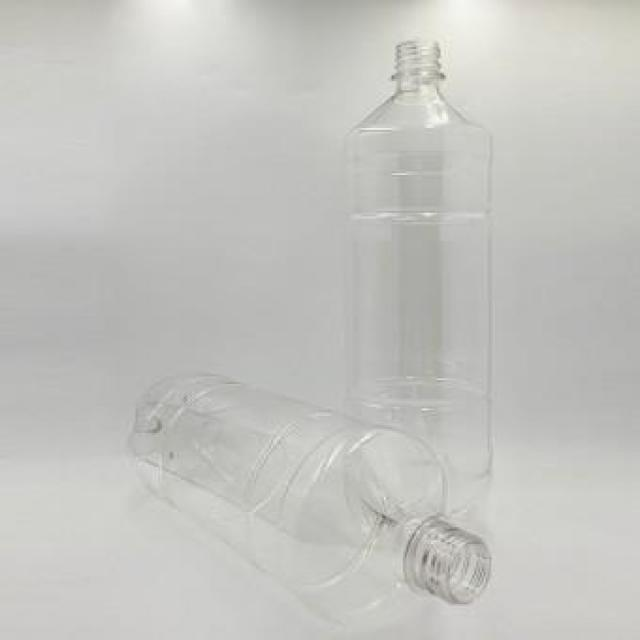bottle: (106, 354, 501, 627)
